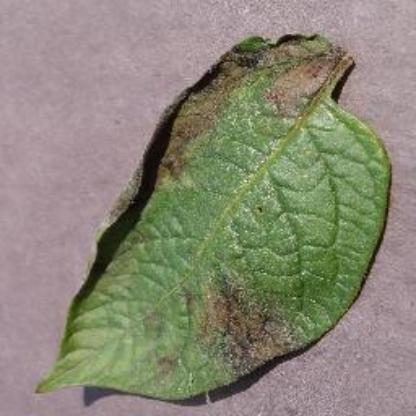Late-Blight: (23, 24, 403, 406)
